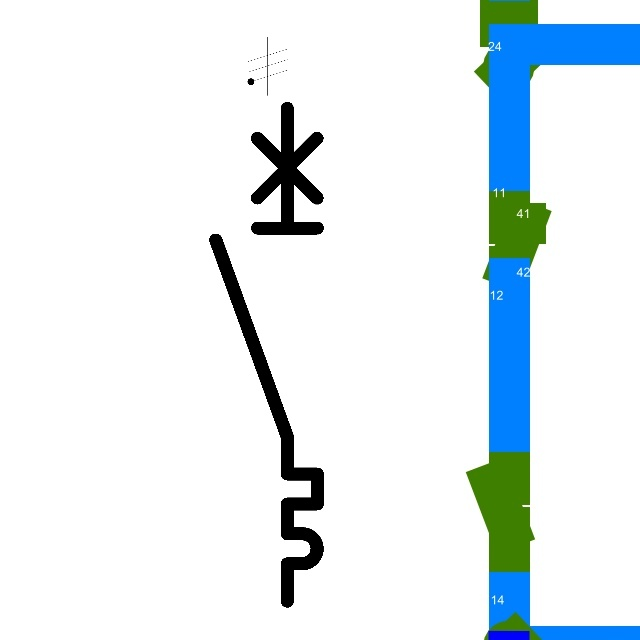interruptor_termomagnetico: (203, 95, 330, 613)
